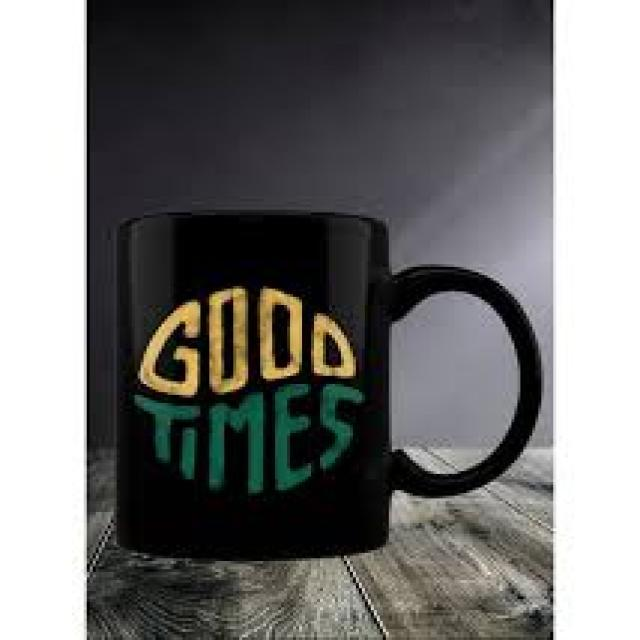taza: (112, 211, 544, 566)
